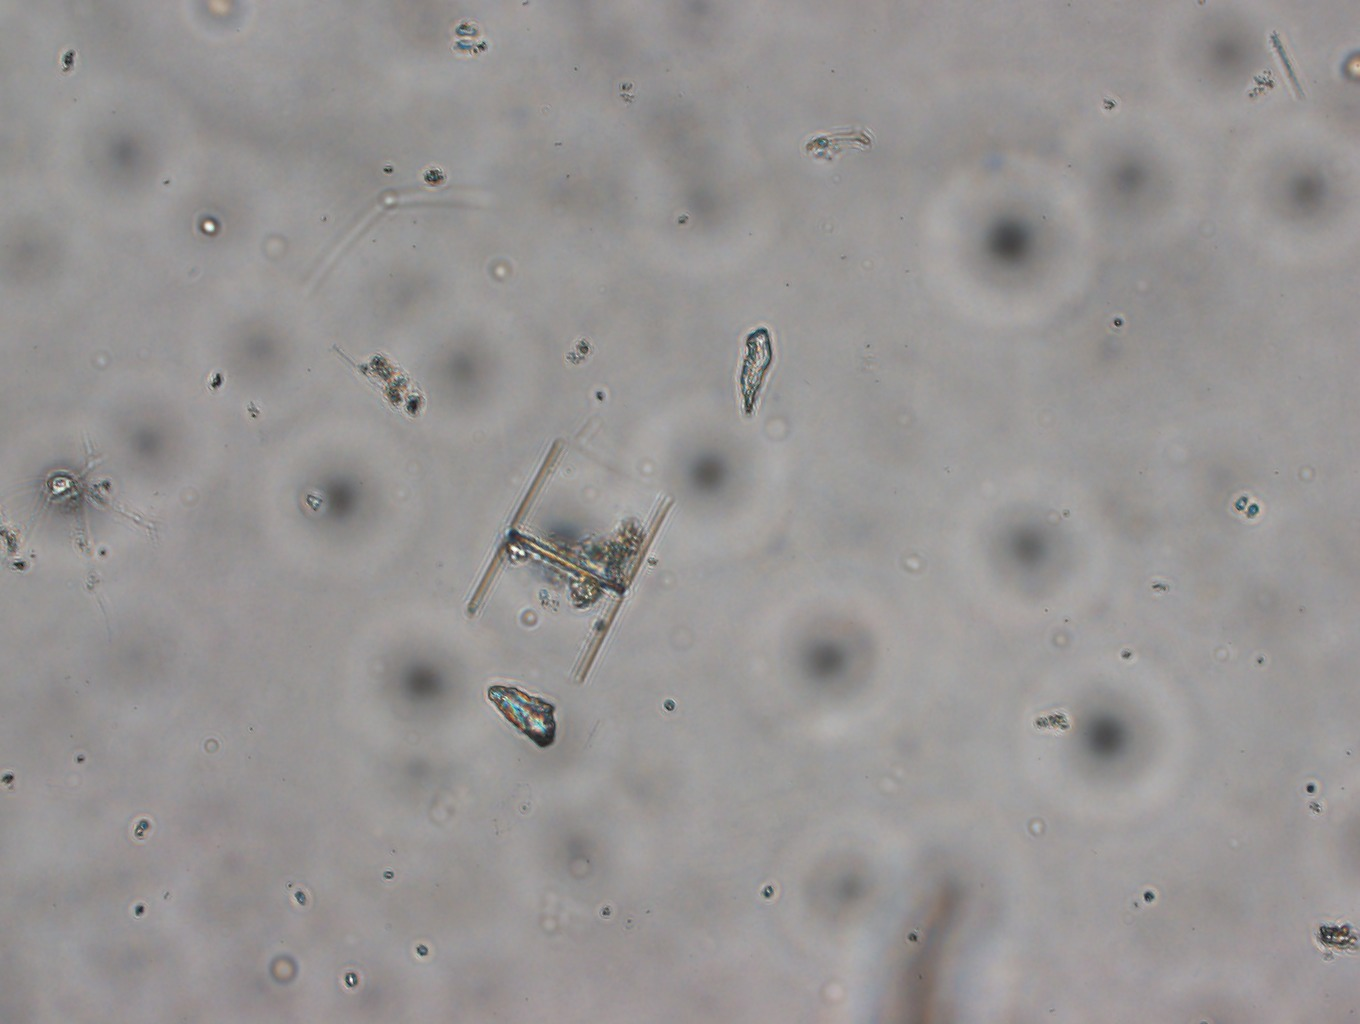guinardia flaccida: (466, 436, 675, 686)
